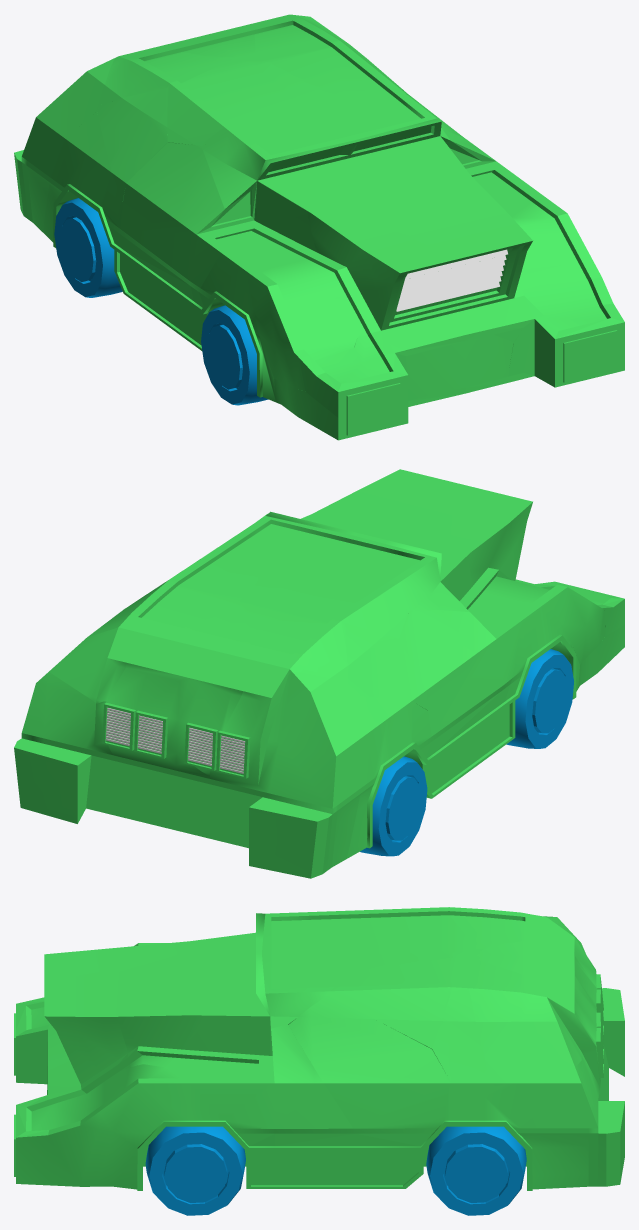
Rendered from Fracture_Truck.FBX.
3 views of the same model, one above another, from view 1: azimuth 30°, elevation 25°; view 2: azimuth 150°, elevation 25°; view 3: azimuth 270°, elevation 25° (orthographic). The views are drawn at different scales.
Visible parts, largest first — view 1: Truck_UV001_Part_34, Truck_UV001_Part_36, Truck_UV001_Part_14, Truck_UV001_Part_21, Truck_UV001_Part_30, Truck_UV001_Part_6, Truck_UV001_Part_20, Truck_UV001_Part_7, Truck_UV001_Part_33, Truck_UV001_Part_1, Truck_UV001_Part_17, Truck_UV001_Part_29 (+19 smaller); view 2: Truck_UV001_Part_29, Truck_UV001_Part_32, Truck_UV001_Part_21, Truck_UV001_Part_9, Truck_UV001_Part_34, Truck_UV001_Part_20, Truck_UV001_Part_28, Truck_UV001_Part_24, Truck_UV001_Part_17, Truck_UV001_Part_22, Truck_UV001_Part_6, Truck_UV001_Part_1 (+15 smaller); view 3: Truck_UV001_Part_4, Truck_UV001_Part_13, Truck_UV001_Part_36, Truck_UV001_Part_38, Truck_UV001_Part_28, Truck_UV001_Part_1, Truck_UV001_Part_6, Truck_UV001_Part_7, Rueda005, Rueda008, Truck_UV001_Part_3, Truck_UV001_Part_20 (+13 smaller).
Part boxes in pixels (<box>): Truck_UV001_Part_34: <box>246,206,413,391</box>; Truck_UV001_Part_36: <box>507,196,624,387</box>; Truck_UV001_Part_14: <box>274,304,513,440</box>; Truck_UV001_Part_21: <box>118,142,234,316</box>; Truck_UV001_Part_30: <box>202,130,351,231</box>; Truck_UV001_Part_6: <box>306,91,459,187</box>; Truck_UV001_Part_20: <box>167,59,327,145</box>; Truck_UV001_Part_7: <box>405,208,532,342</box>; Truck_UV001_Part_33: <box>299,240,457,417</box>; Truck_UV001_Part_1: <box>330,167,502,229</box>; Truck_UV001_Part_17: <box>43,111,127,293</box>; Truck_UV001_Part_29: <box>14,58,114,232</box>; Truck_UV001_Part_29: <box>209,672,365,878</box>; Truck_UV001_Part_32: <box>104,612,251,775</box>; Truck_UV001_Part_21: <box>399,610,521,798</box>; Truck_UV001_Part_9: <box>29,672,131,823</box>; Truck_UV001_Part_34: <box>446,510,605,664</box>; Truck_UV001_Part_20: <box>237,568,408,638</box>; Truck_UV001_Part_28: <box>49,588,225,703</box>; Truck_UV001_Part_24: <box>95,701,212,821</box>; Truck_UV001_Part_17: <box>347,695,434,858</box>; Truck_UV001_Part_22: <box>242,620,347,692</box>; Truck_UV001_Part_6: <box>232,511,387,561</box>; Truck_UV001_Part_1: <box>301,492,449,549</box>; Truck_UV001_Part_4: <box>183,1024,384,1188</box>; Truck_UV001_Part_13: <box>288,995,457,1175</box>; Truck_UV001_Part_36: <box>14,1064,194,1190</box>; Truck_UV001_Part_38: <box>455,1068,621,1190</box>; Truck_UV001_Part_28: <box>469,960,596,1085</box>; Truck_UV001_Part_1: <box>116,951,216,1067</box>; Truck_UV001_Part_6: <box>209,938,349,1034</box>; Truck_UV001_Part_7: <box>44,971,129,1091</box>; Rueda005: <box>145,1126,245,1215</box>; Rueda008: <box>426,1126,526,1215</box>; Truck_UV001_Part_3: <box>328,957,458,1048</box>; Truck_UV001_Part_20: <box>344,907,471,967</box>.
Size of the model in its own units: 63.51 by 38.15 by 107.
